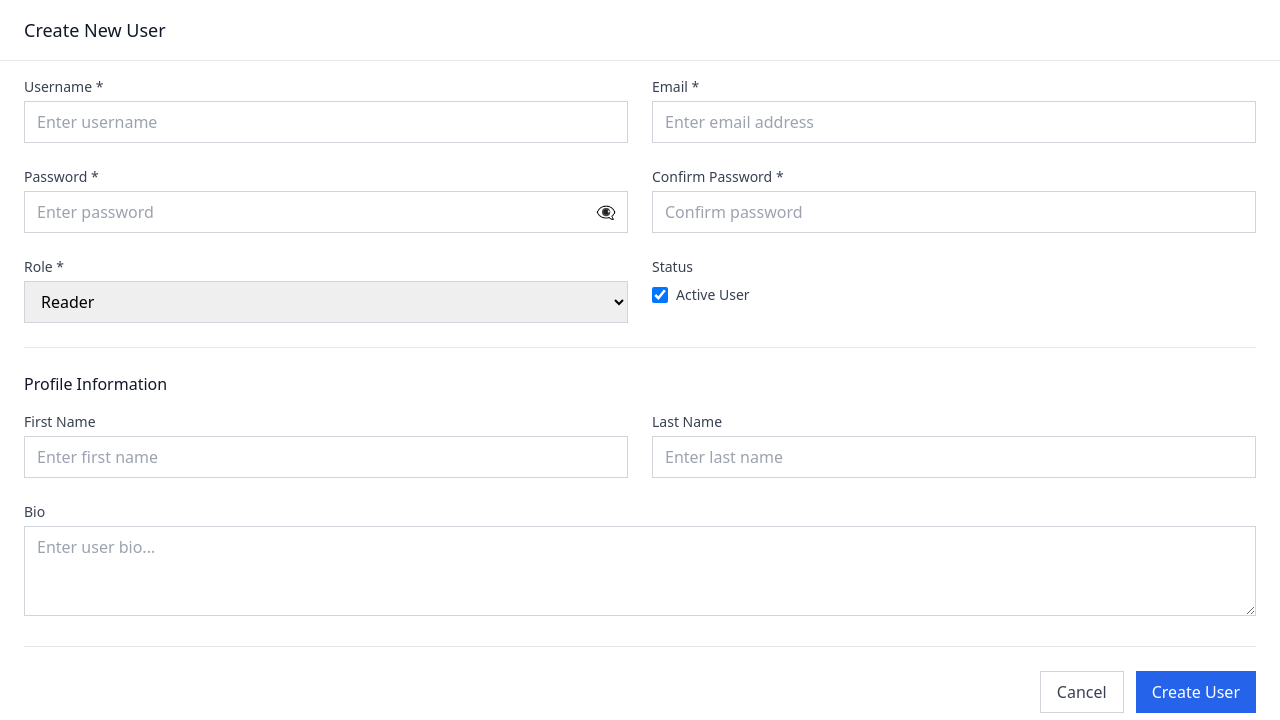
Scenario: UserForm › Create Mode › should validate required fields on create
Click the button "Create User".
click(1196, 692)  # box [1136,671,1256,713]
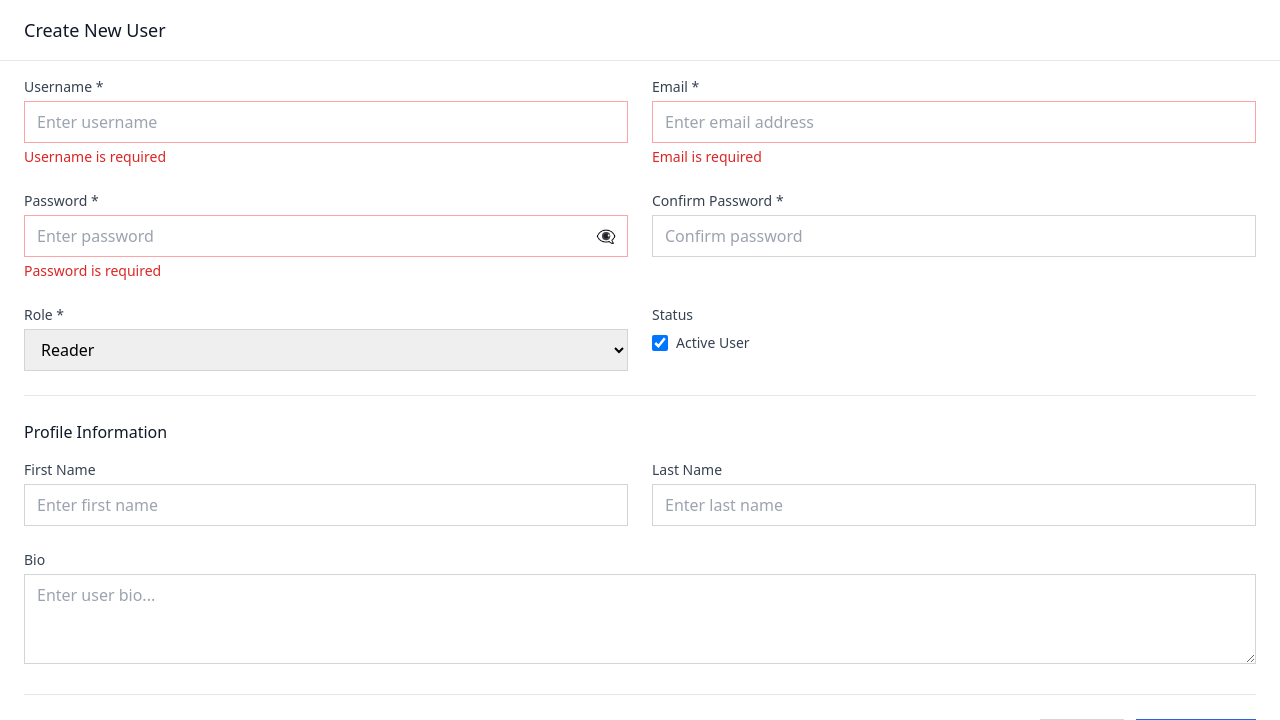
Expected: the text "Username is required" is shown, [24,147,166,166]
Expected: the text "Email is required" is shown, [652,147,762,166]
Expected: the text "Password is required" is shown, [24,261,161,280]
